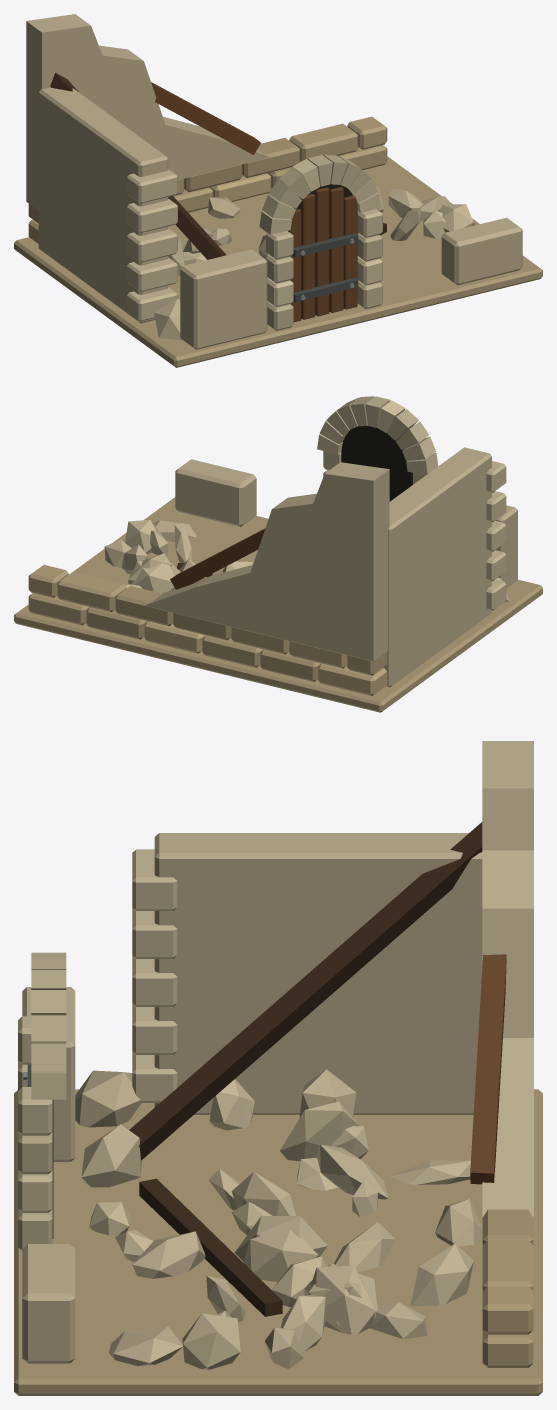
The model's file is ruin.glb.
3 renders of one model, top to bottom at view 1: azimuth 30°, elevation 25°; view 2: azimuth 150°, elevation 25°; view 3: azimuth 270°, elevation 25°, orthographic. The views are drawn at different scales.
Parts seen in each view (by area): view 1: Stone, Timber, Metal; view 2: Stone, Timber; view 3: Stone, Timber.
Boxes of the visible parts, left/top/right/bottom form: Stone: left=14, top=14, right=542, bottom=367; Timber: left=50, top=73, right=386, bottom=322; Metal: left=292, top=233, right=358, bottom=302; Stone: left=14, top=396, right=542, bottom=712; Timber: left=170, top=528, right=265, bottom=589; Stone: left=14, top=741, right=542, bottom=1395; Timber: left=129, top=822, right=506, bottom=1316.
Size of the model in its own units: 6.16 by 3.65 by 4.7.
